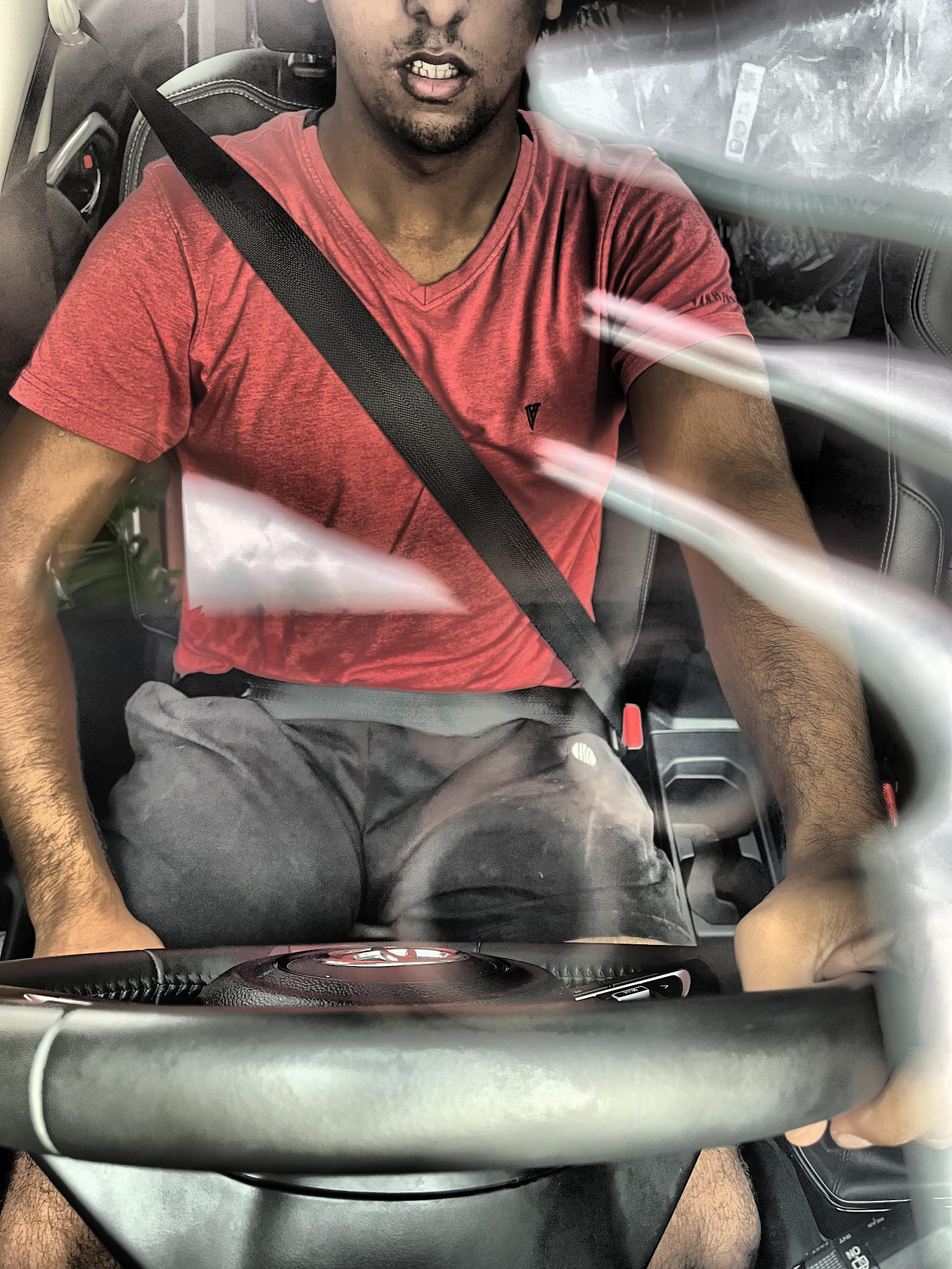seatbelt: (48, 49, 711, 765)
